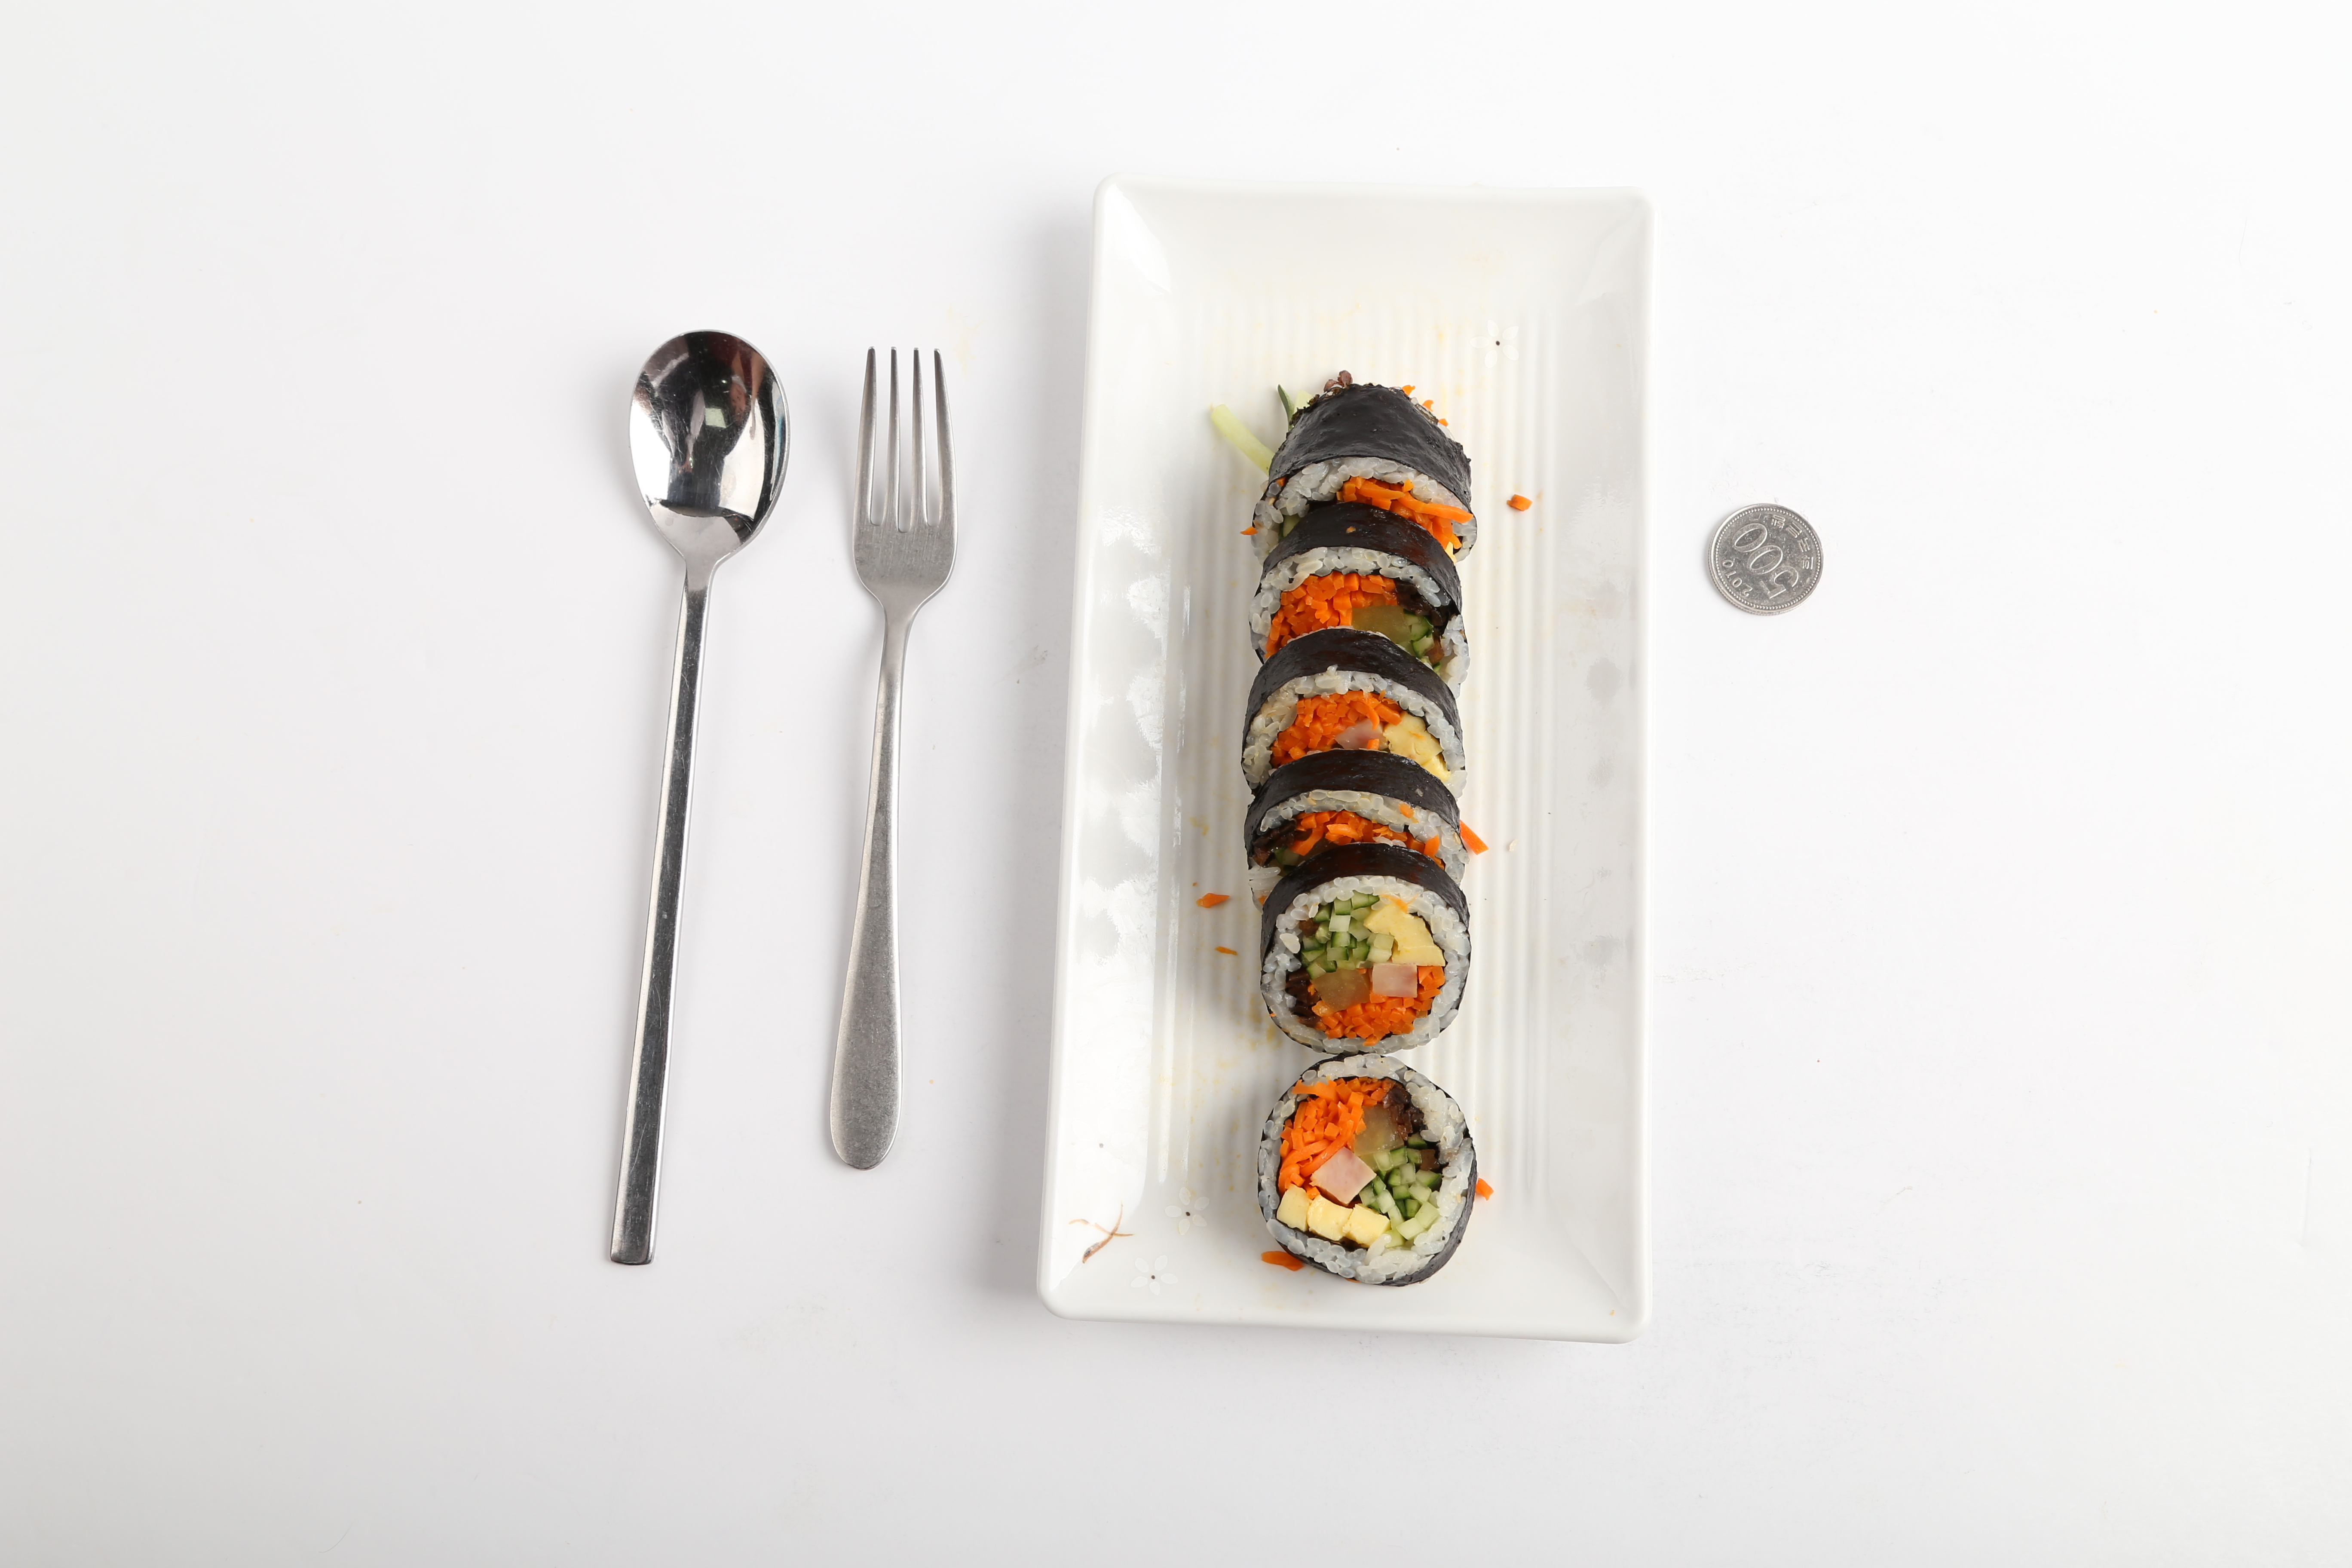dish: (1034, 180, 1652, 1347)
ref_coin: (1701, 499, 1825, 621)
ref_fork: (845, 338, 961, 656)
ref_spoon: (623, 324, 794, 633)
김밥: (1235, 380, 1477, 1293)
